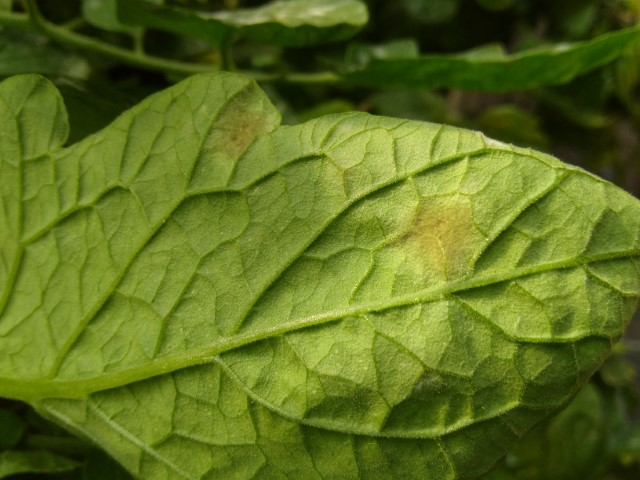cladosporium: (399, 194, 481, 278), (219, 107, 271, 161)
